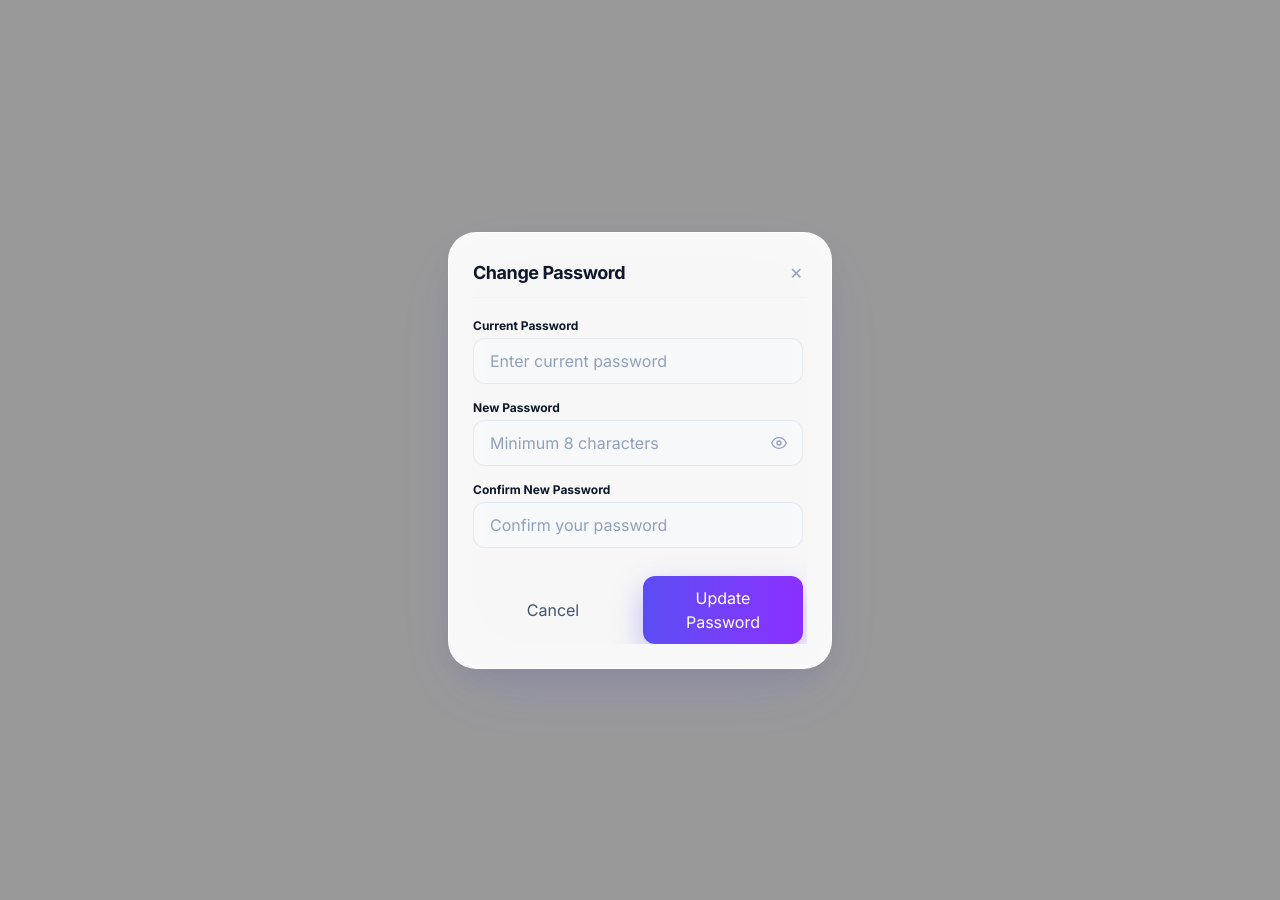
Test case: ChangePasswordModal › shows error if passwords do not match
Type "oldPassword123" into the password field labelled "Current Password". click: (638, 360)
box: [473, 338, 803, 384]
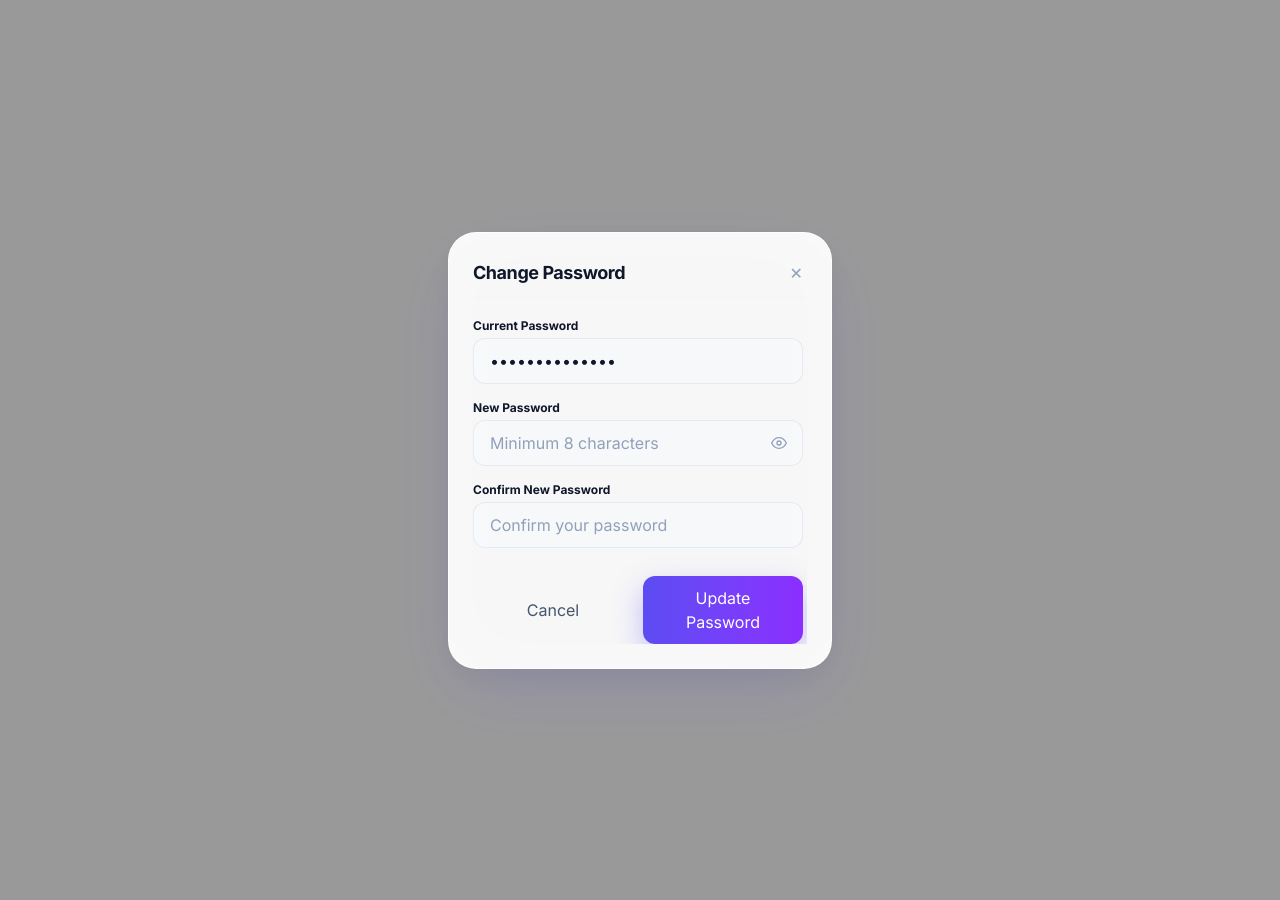
Type "ValidPassword1" into the password field labelled "New Password". click: (638, 442)
box: [473, 420, 803, 466]
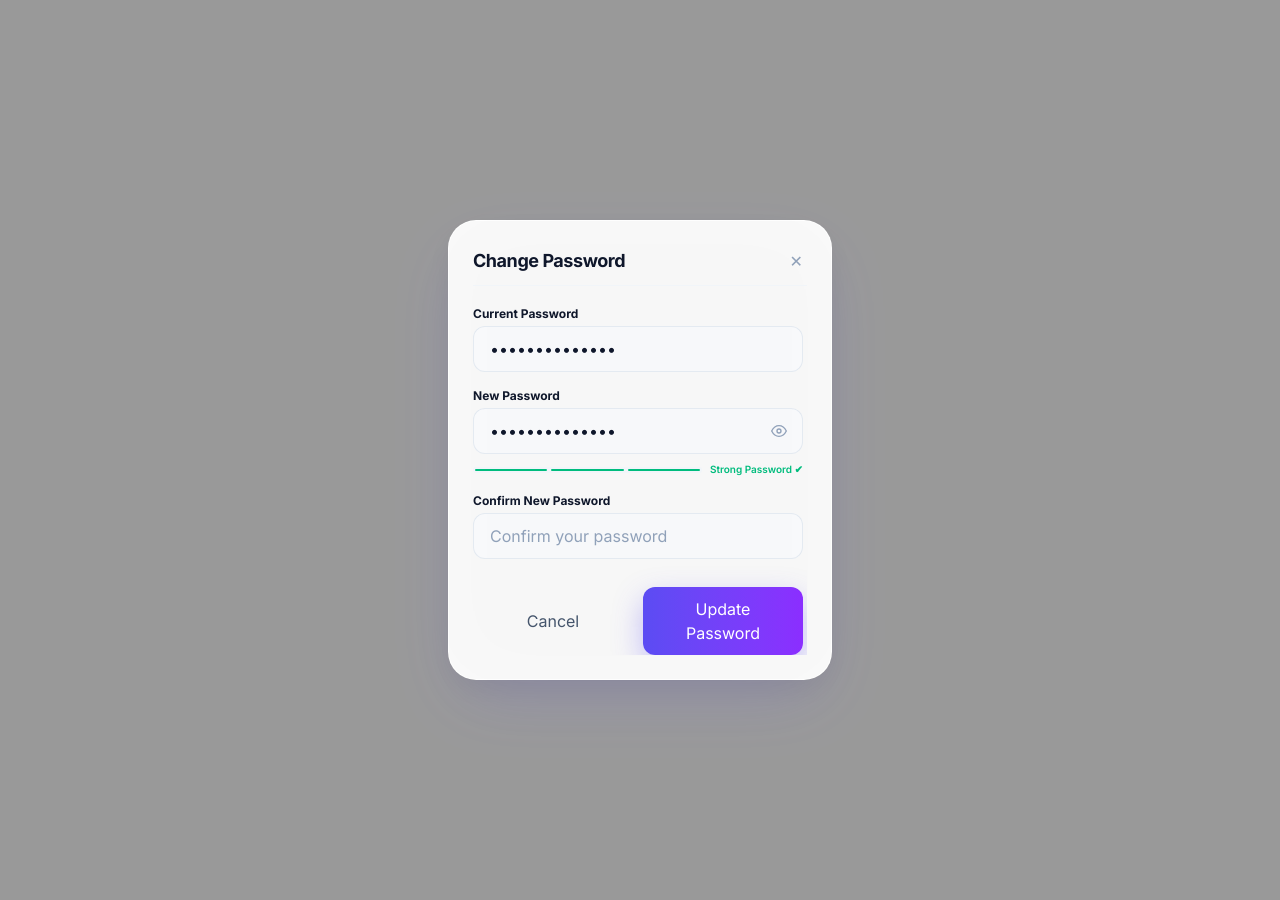
Type "Different1" into the password field labelled "Confirm New Password". click: (638, 536)
box: [473, 513, 803, 559]
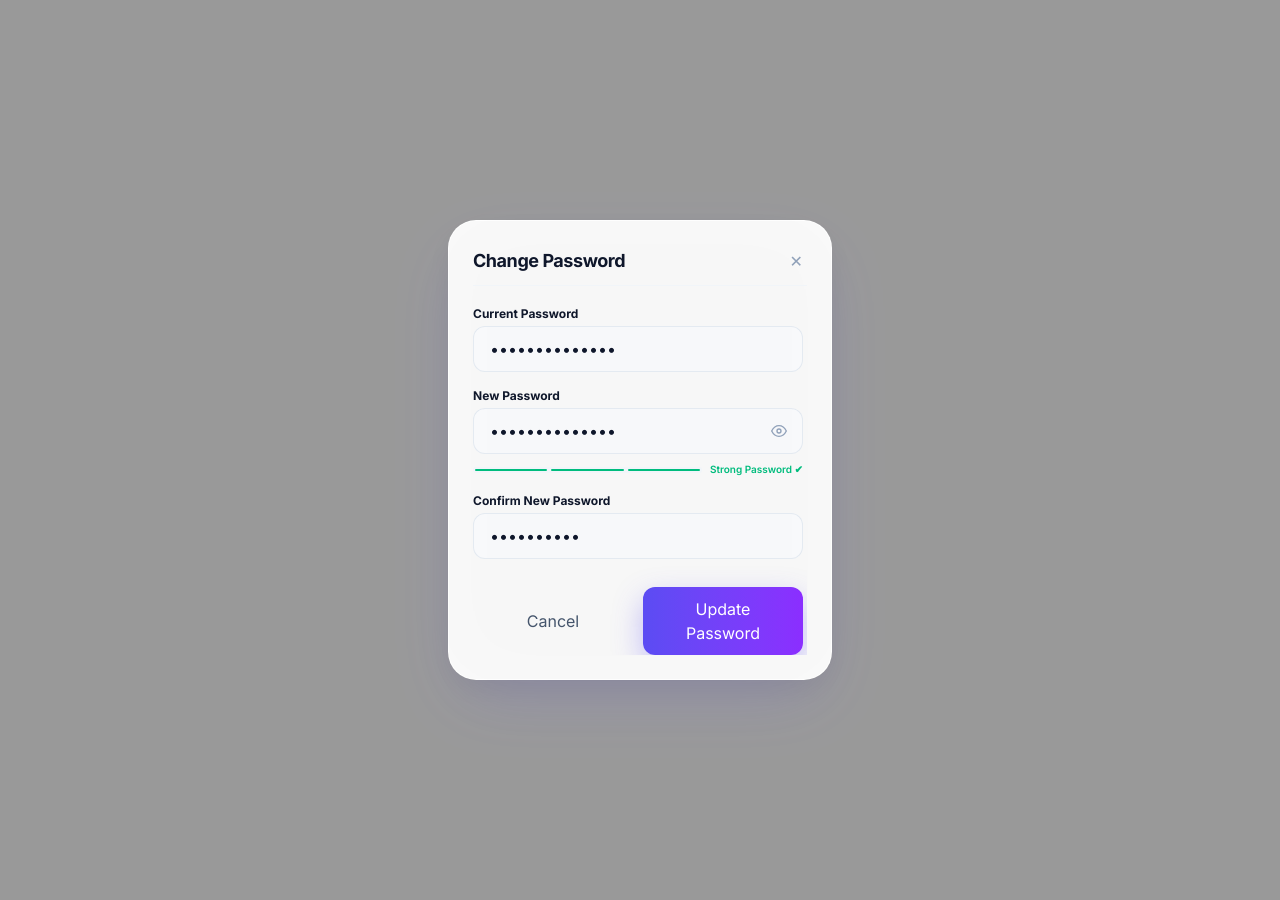
Submit the form named "Update Password", box [473, 302, 803, 655]
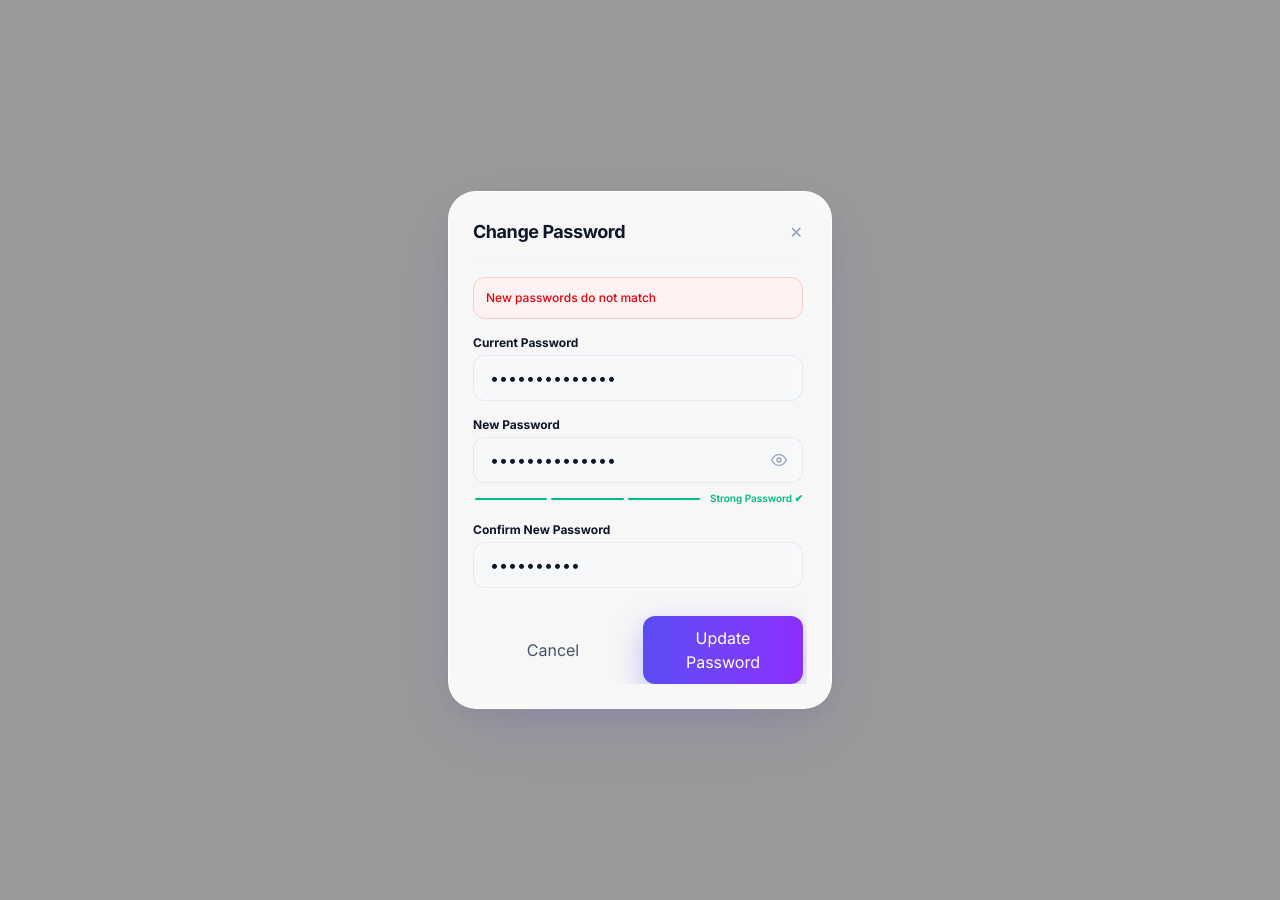
Result: the text "New passwords do not match" is shown at [473, 277, 803, 319]
